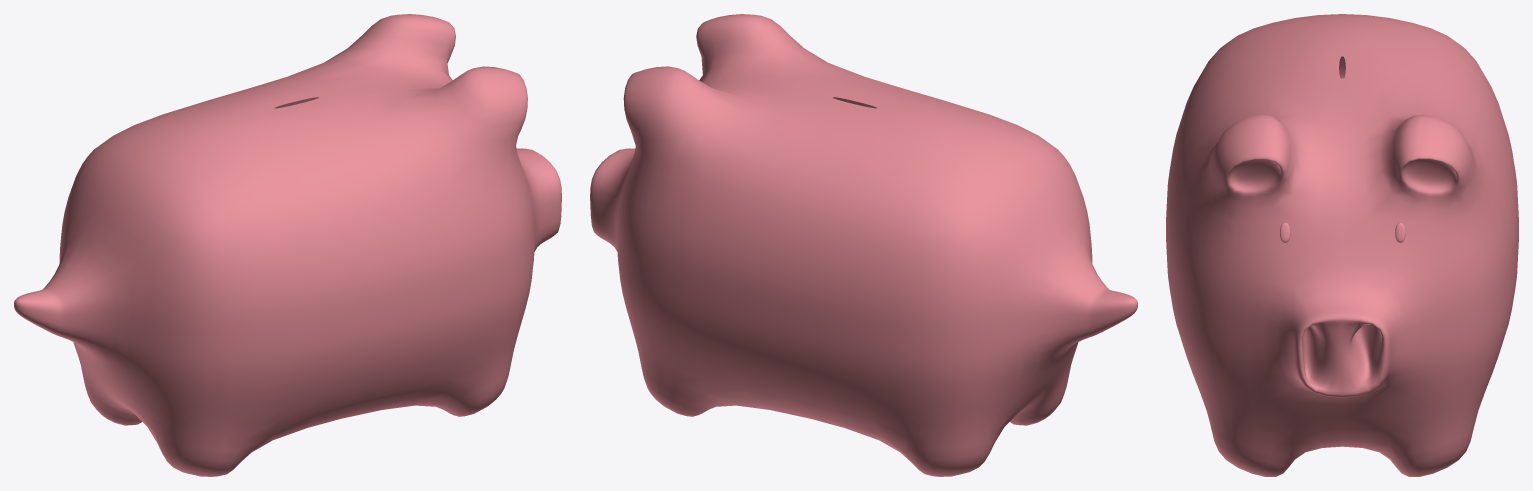
File: piggybank.glb
3 renders of one model, left to right at view 1: azimuth 30°, elevation 25°; view 2: azimuth 150°, elevation 25°; view 3: azimuth 270°, elevation 25°, orthographic. The views are drawn at different scales.
Parts seen in each view (by area): view 1: Cube; view 2: Cube; view 3: Cube.
Part boxes in pixels (bbox=[...]): Cube: bbox=[14, 14, 561, 476]; Cube: bbox=[590, 14, 1137, 476]; Cube: bbox=[1166, 14, 1518, 476].
Size of the model in its own units: 0.5962 by 0.3645 by 0.3208.
